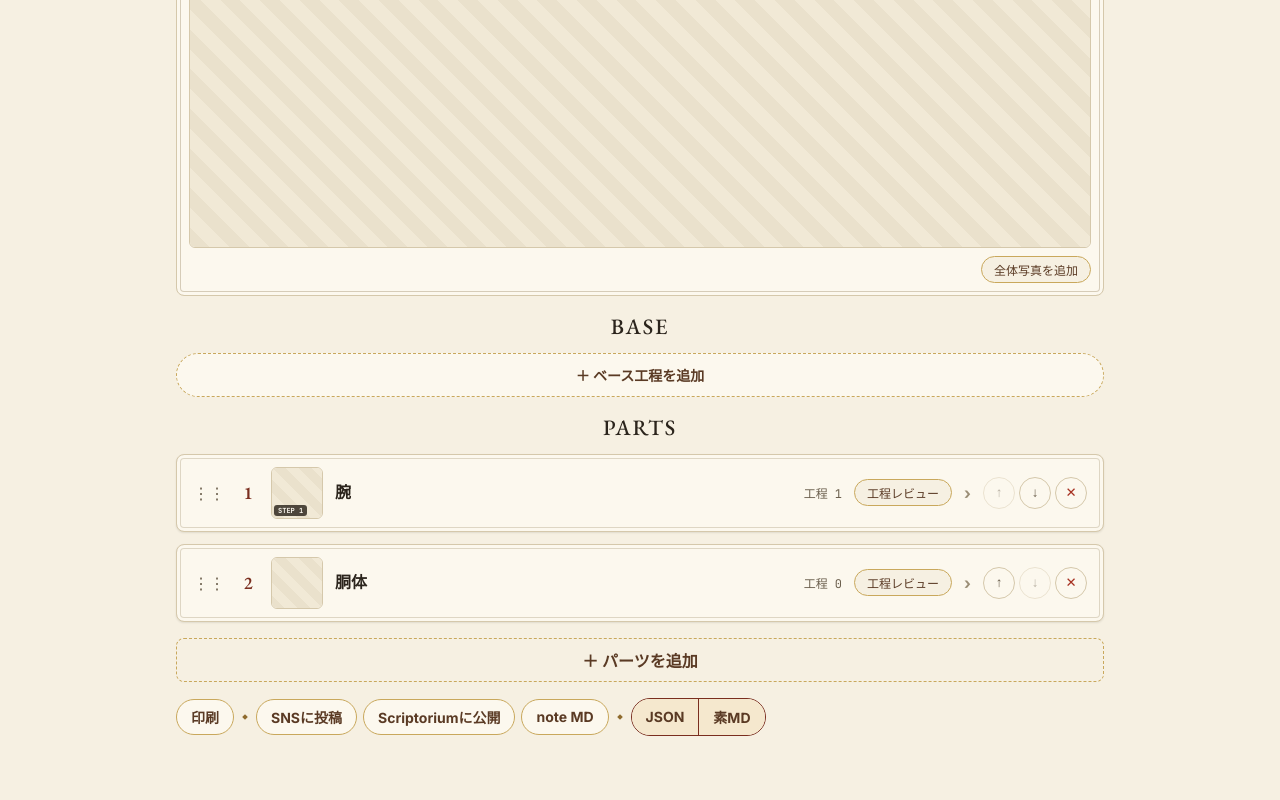
Test: RecipeOverviewPage — パーツ削除（T50） › 削除ボタン→確定でパーツが減り、他から参照されない写真はdeletePhotoされる
This screenshot has width=1280, height=800.
(page scrolled)
Click the button named "腕を削除" at (1071, 492), box [1055,476,1087,508]
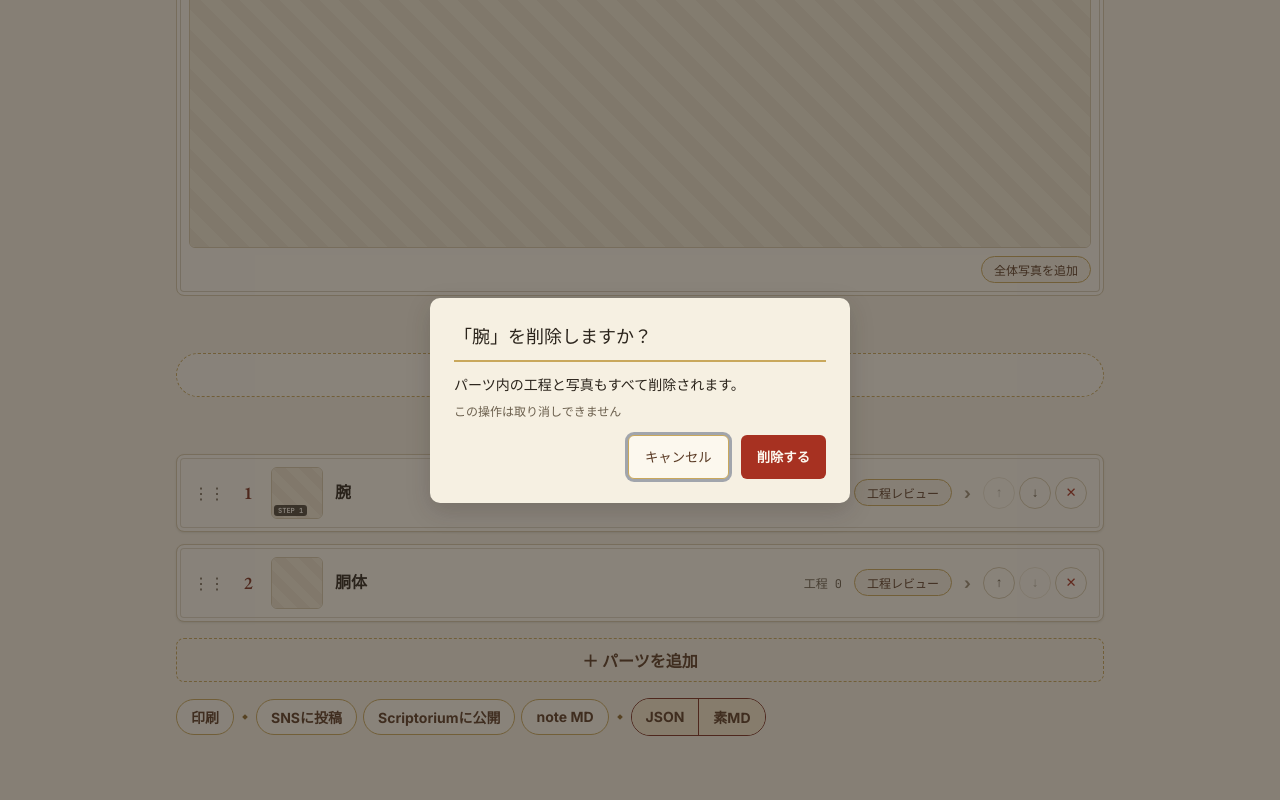
Click the button "削除する" at (783, 456), box [741,434,826,478]
(page scrolled)
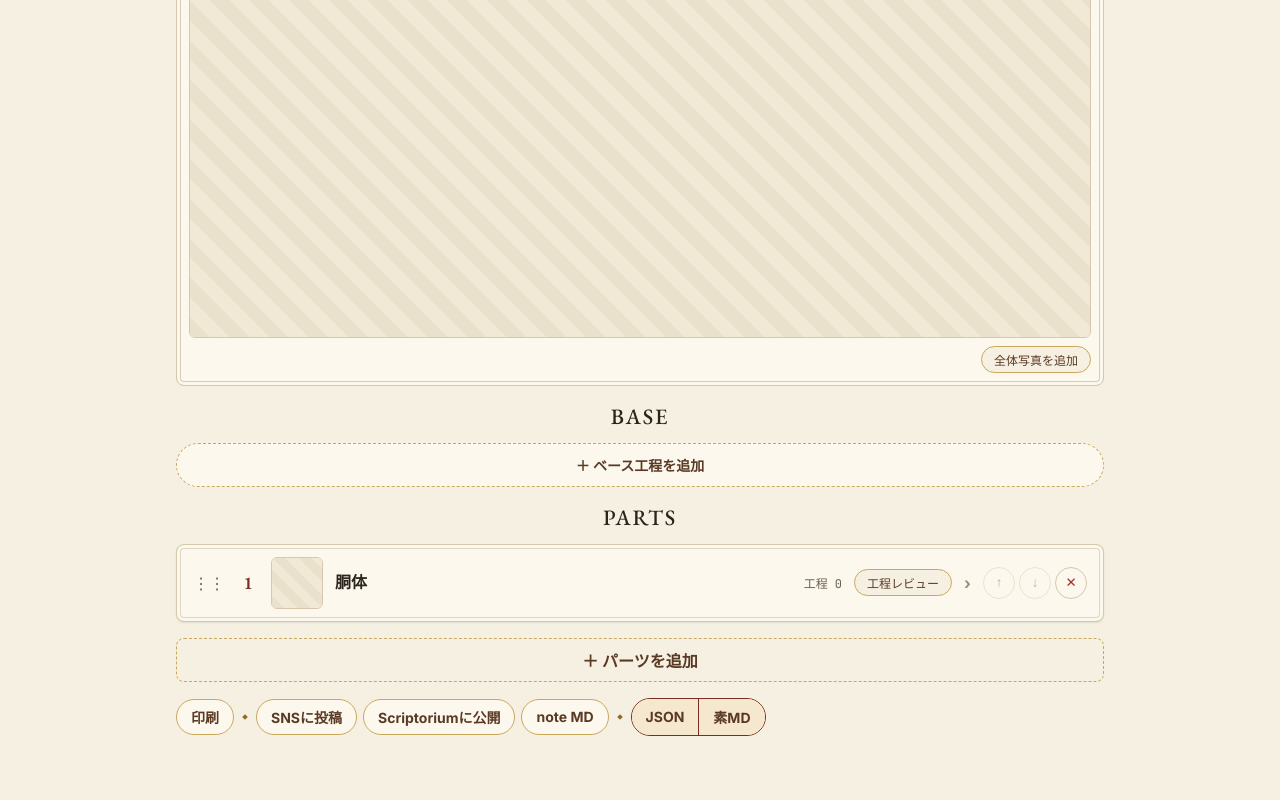
Expected: the text "胴体" is shown, [335,572,367,592]
Now the number of buttons with test id "part-card" is 1, box [176,544,1104,622]
